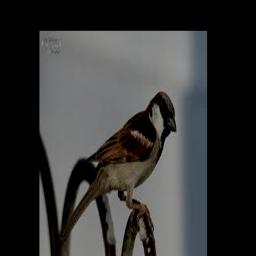Sparrow: (59, 92, 176, 245)
